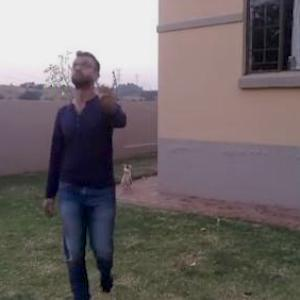takeoff-hand: (98, 76, 122, 112)
